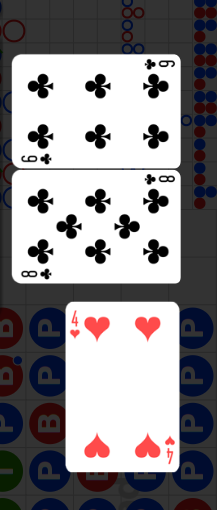4H: (163, 434, 176, 465)
6C: (142, 58, 176, 72)
8C: (20, 266, 54, 280)
